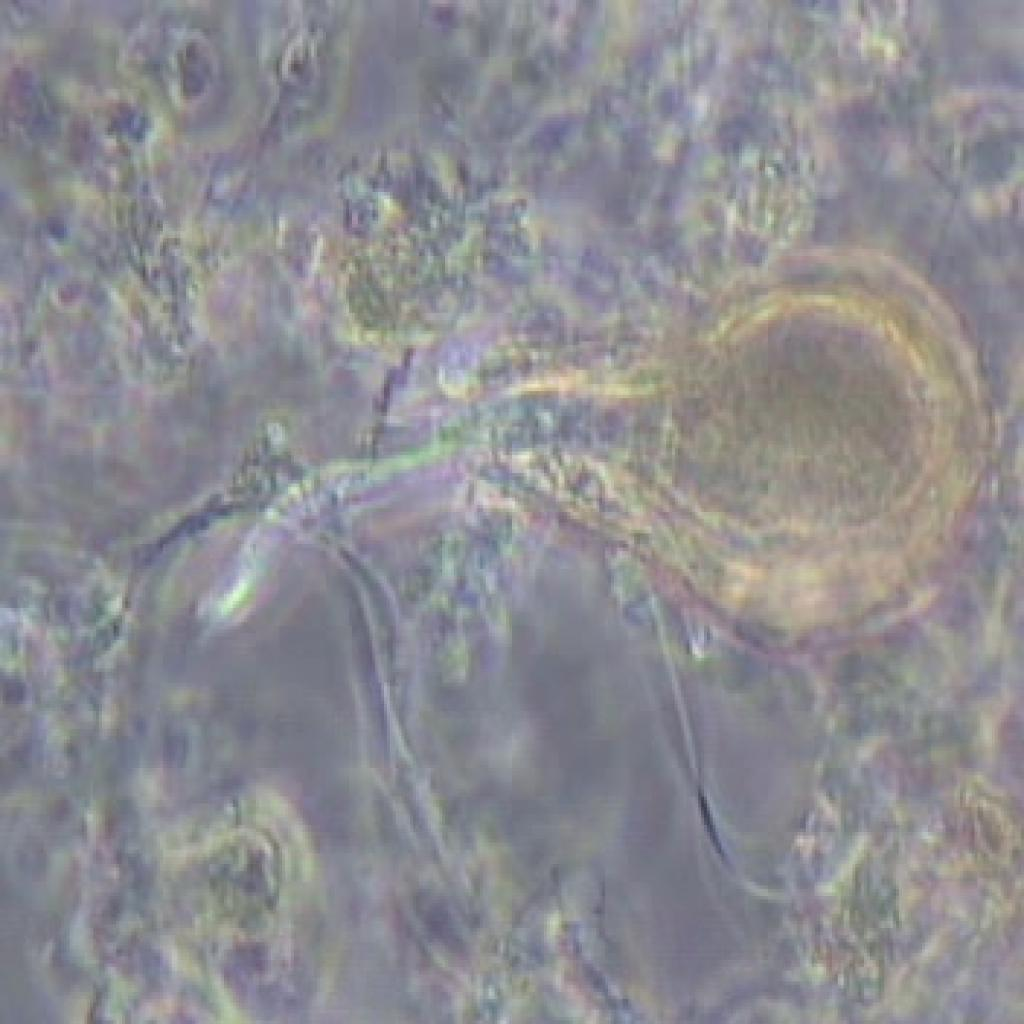Chaetopira: (233, 270, 980, 622)
